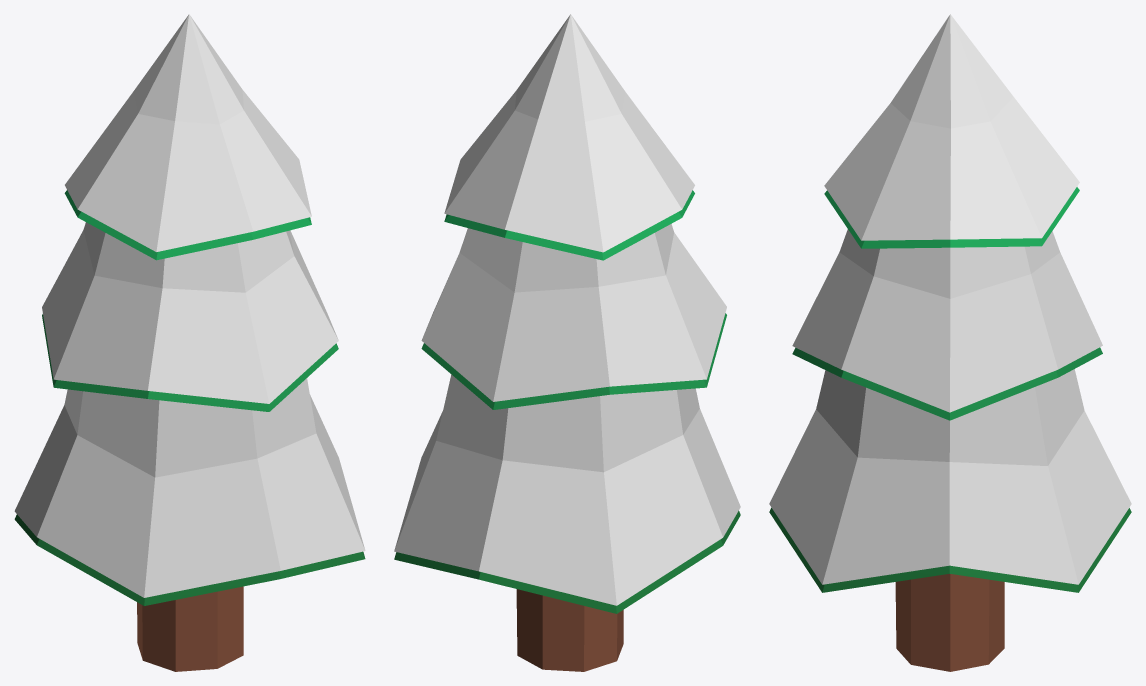
The model's file is treetest.glb.
3 renders of one model, left to right at view 1: azimuth 30°, elevation 25°; view 2: azimuth 150°, elevation 25°; view 3: azimuth 270°, elevation 25°, orthographic.
Visible parts, largest first — view 1: Tree_01_winter_gradient_green; view 2: Tree_01_winter_gradient_green; view 3: Tree_01_winter_gradient_green.
Boxes of the visible parts, x1=… form: Tree_01_winter_gradient_green: x1=14, y1=14, x2=365, y2=671; Tree_01_winter_gradient_green: x1=394, y1=14, x2=740, y2=671; Tree_01_winter_gradient_green: x1=769, y1=14, x2=1131, y2=671.
Bounding box in the file's own units: 0.8322 × 1.67 × 0.8678.
1 material, 1 textured.
